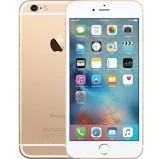iphone: (63, 1, 143, 159)
iphone6: (63, 1, 143, 159)
